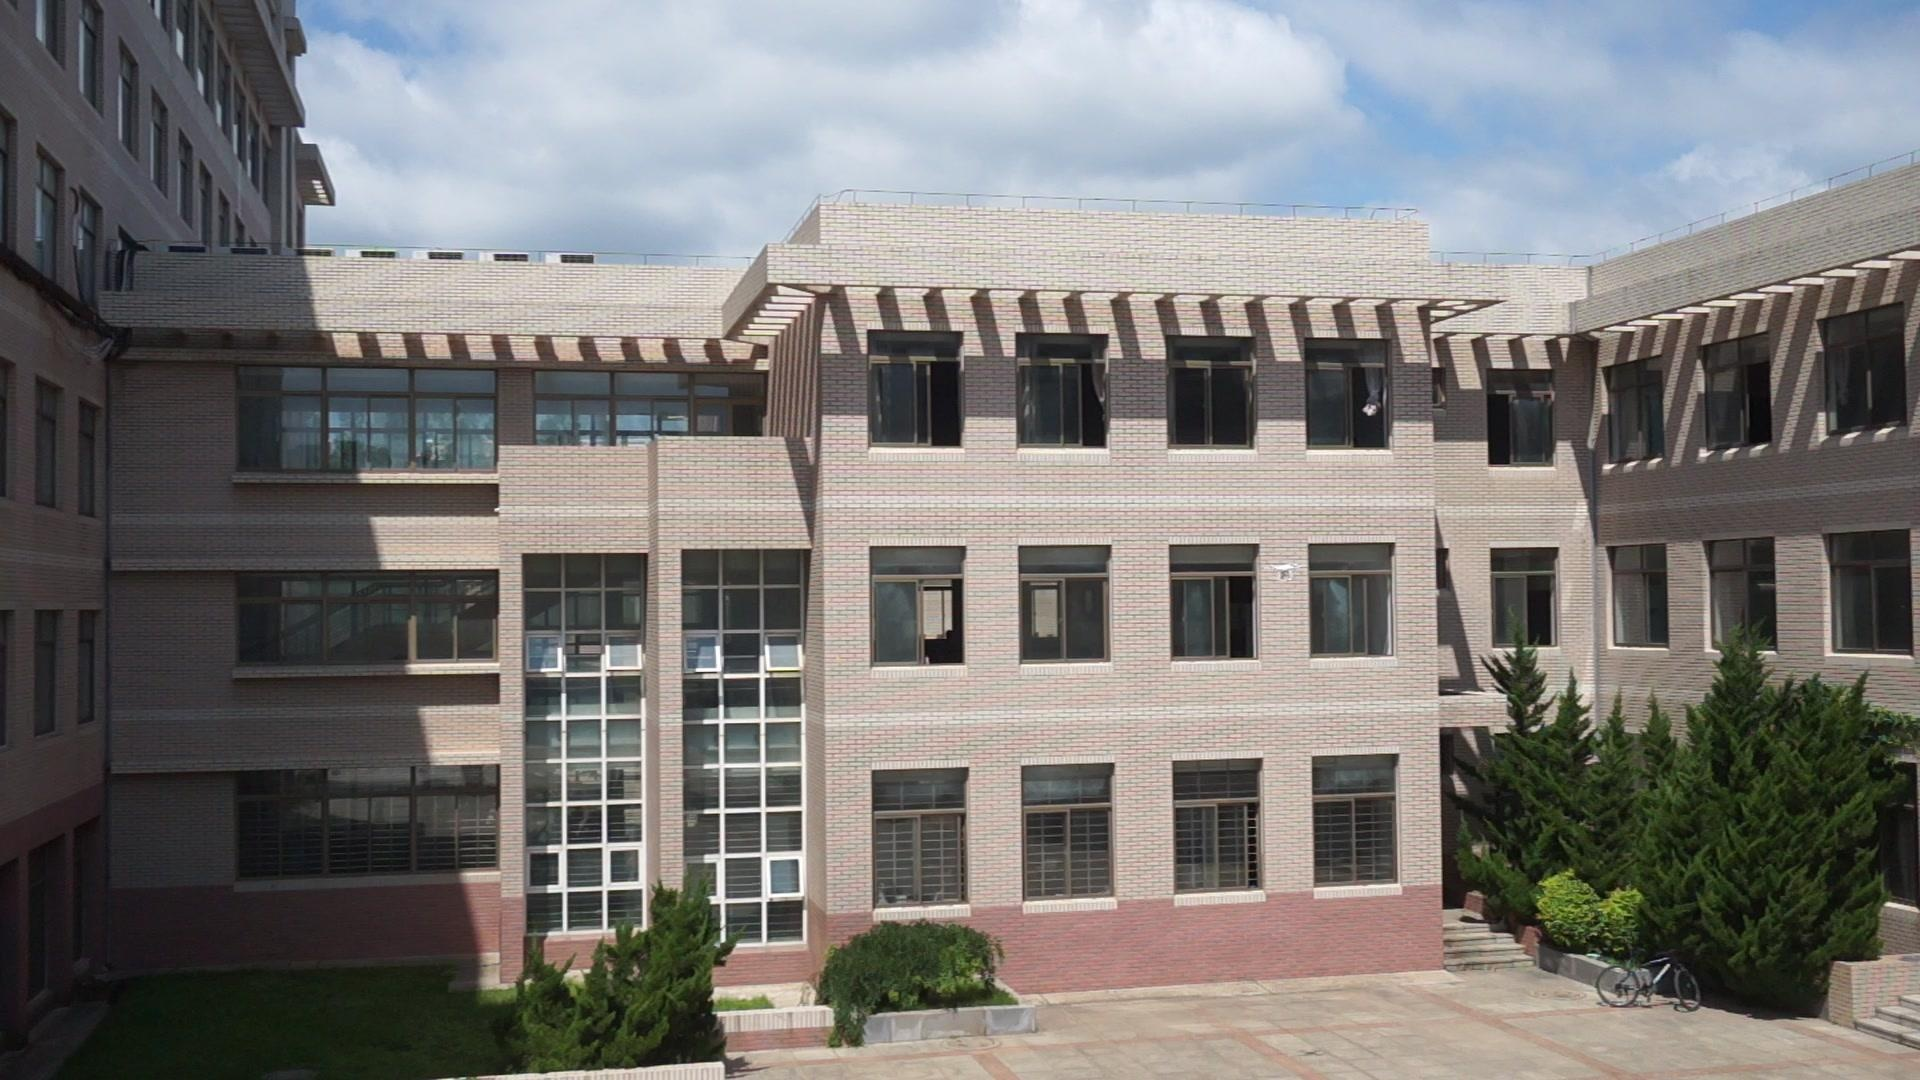UAV: (1270, 564, 1302, 583)
